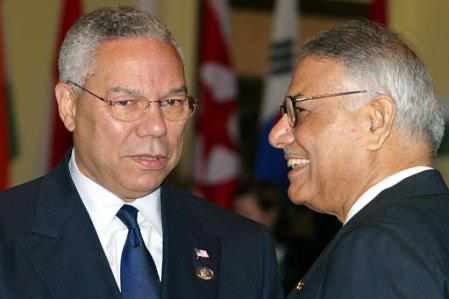Face: (81, 45, 204, 192), (263, 55, 358, 216)
